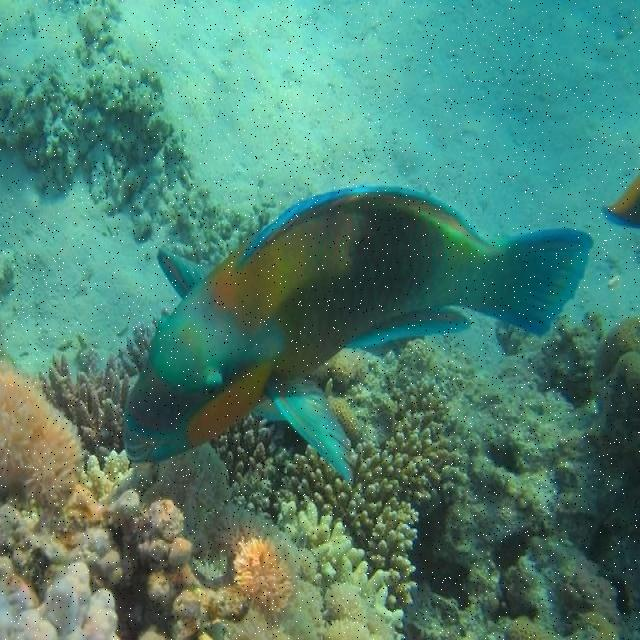fish: (122, 187, 591, 485), (603, 177, 639, 225)
reefs: (6, 449, 404, 637), (171, 381, 460, 605), (47, 304, 174, 458), (0, 363, 78, 505)
